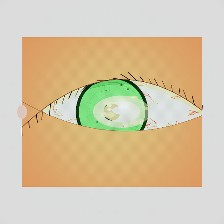corneal_ulcer: (92, 88, 152, 136)
